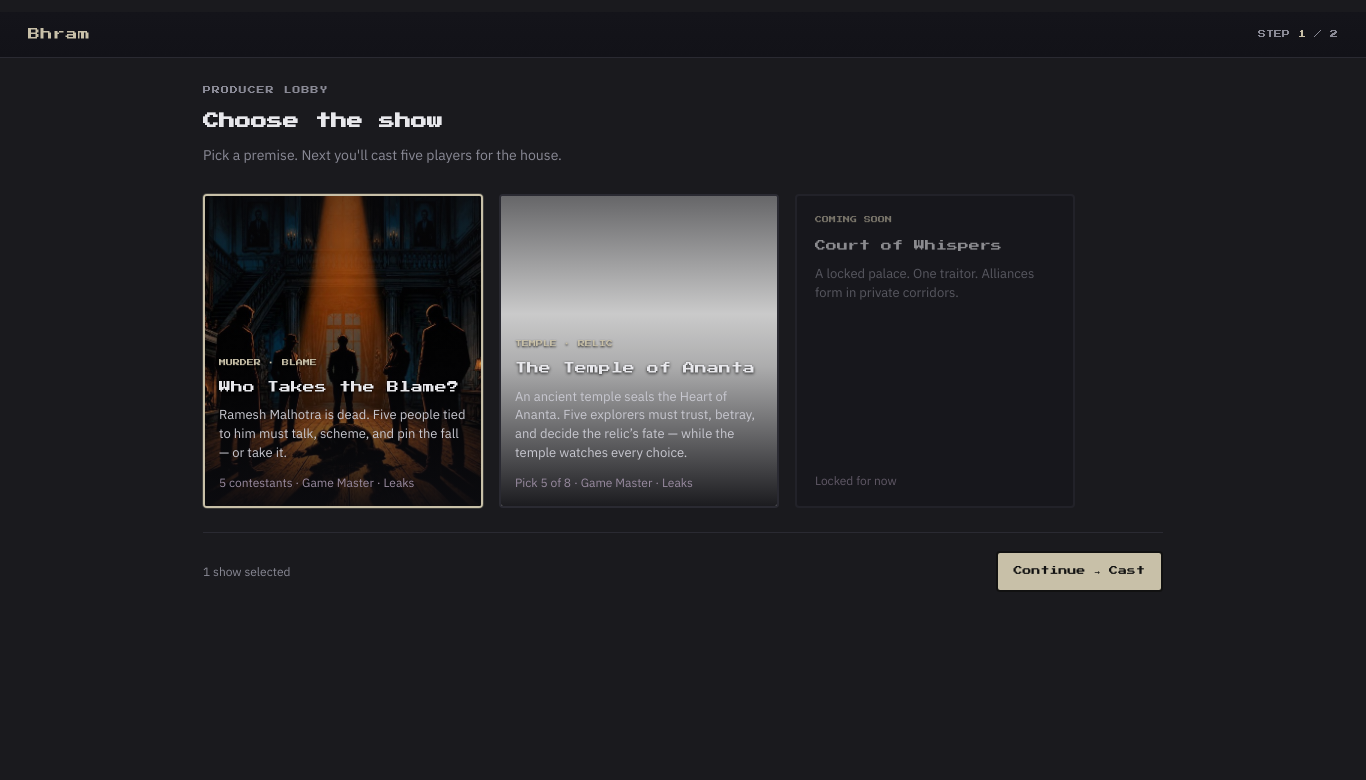
Test: ShowSetup › can go back from cast to game pick
Click the button "Continue → Cast": click(1079, 571) [996,551,1163,592]
(page scrolled)
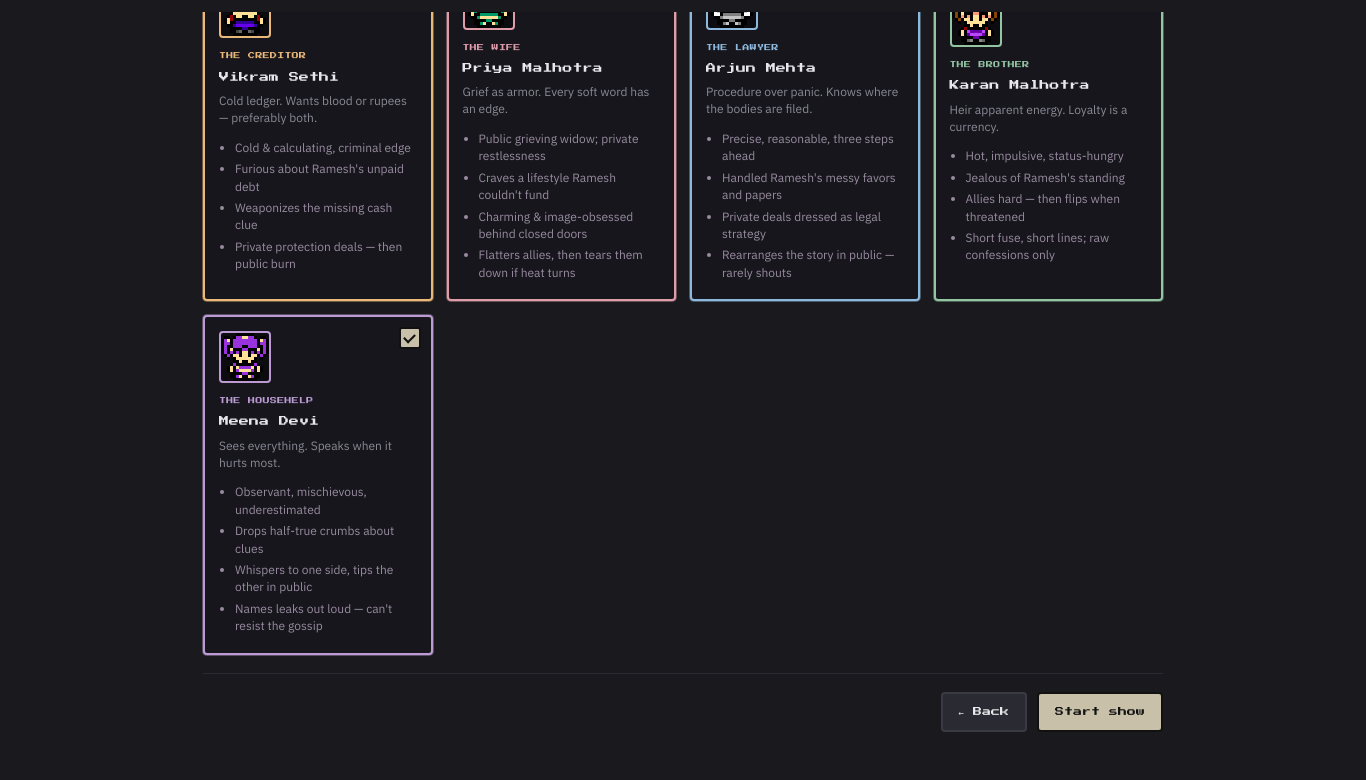
Click the button "← Back": click(984, 712) [941,692,1027,732]
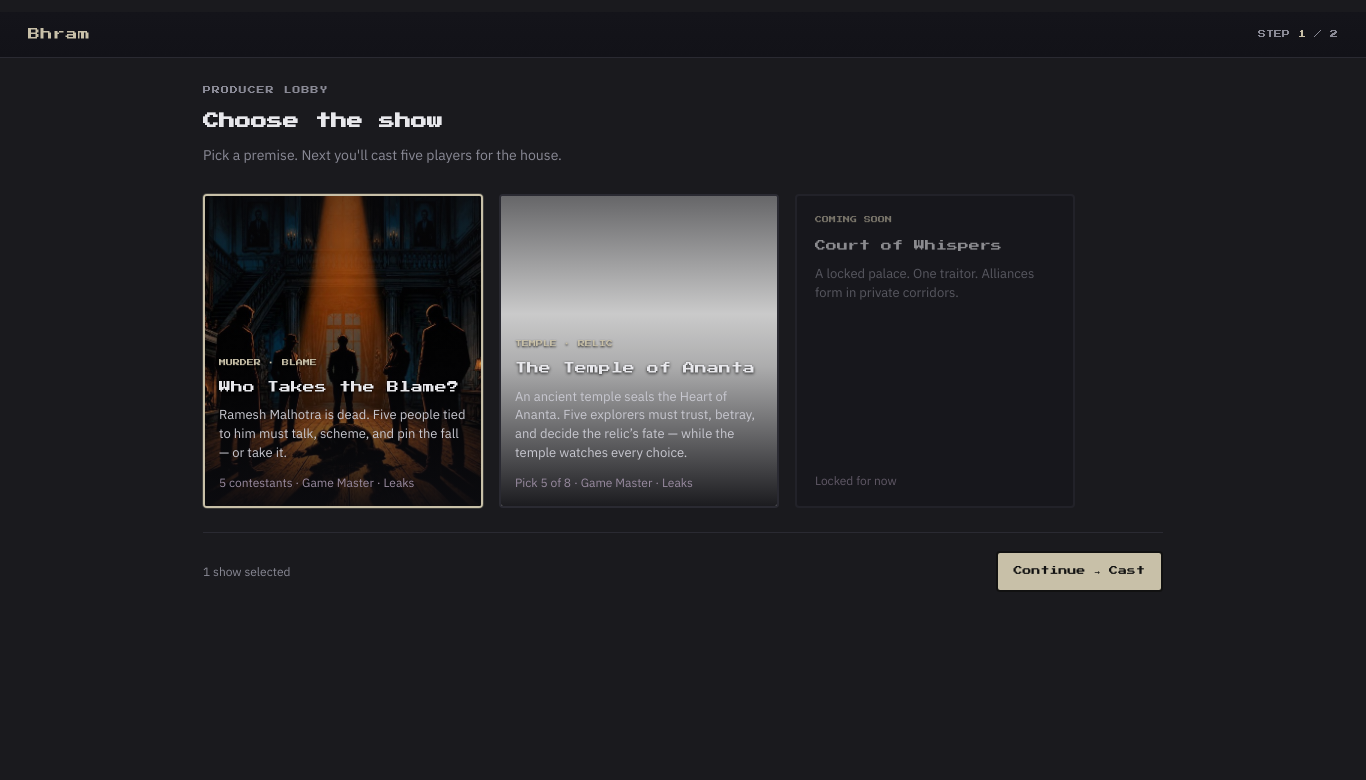
expect the element with test id "game-pick-step" is shown: met, box [203,86,1163,592]
